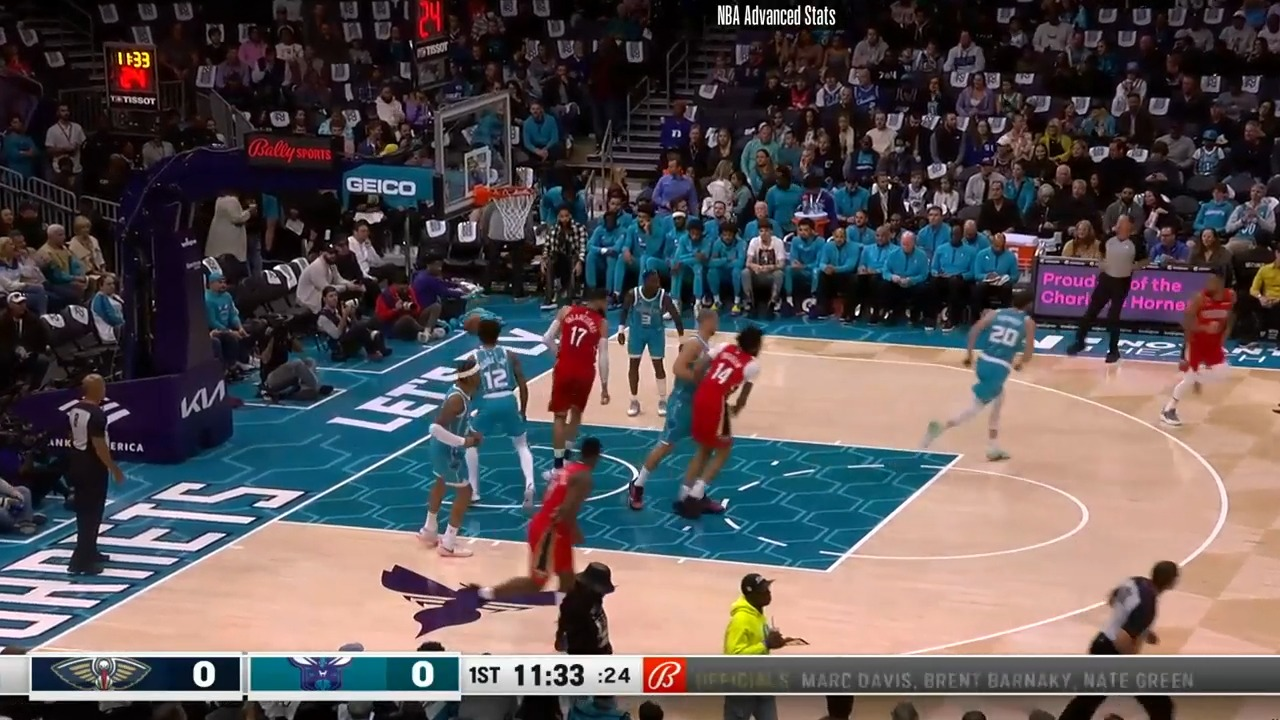net: (469, 179, 539, 243)
player: (462, 432, 609, 621), (923, 281, 1035, 469), (673, 314, 771, 517), (534, 288, 614, 481), (1160, 264, 1249, 432), (423, 343, 487, 566), (466, 320, 537, 508), (613, 272, 689, 425)
referee: (57, 371, 120, 582), (1069, 212, 1145, 368), (1074, 557, 1186, 653)
